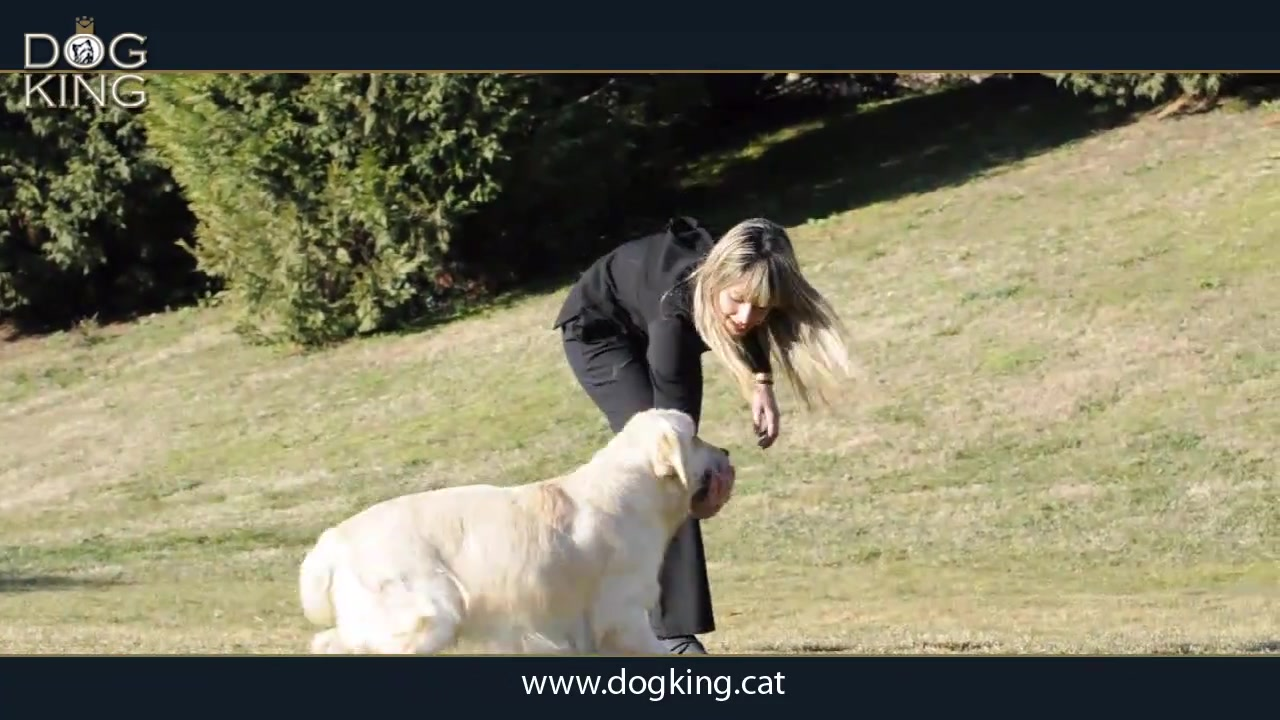dog: (299, 407, 737, 657)
